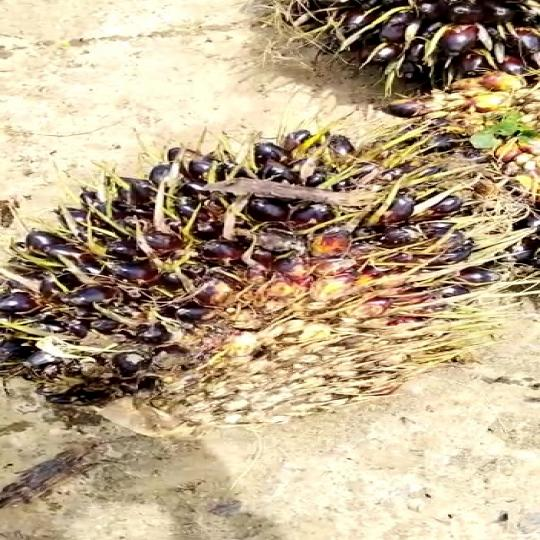mentah: (1, 140, 518, 452), (262, 4, 540, 148)
